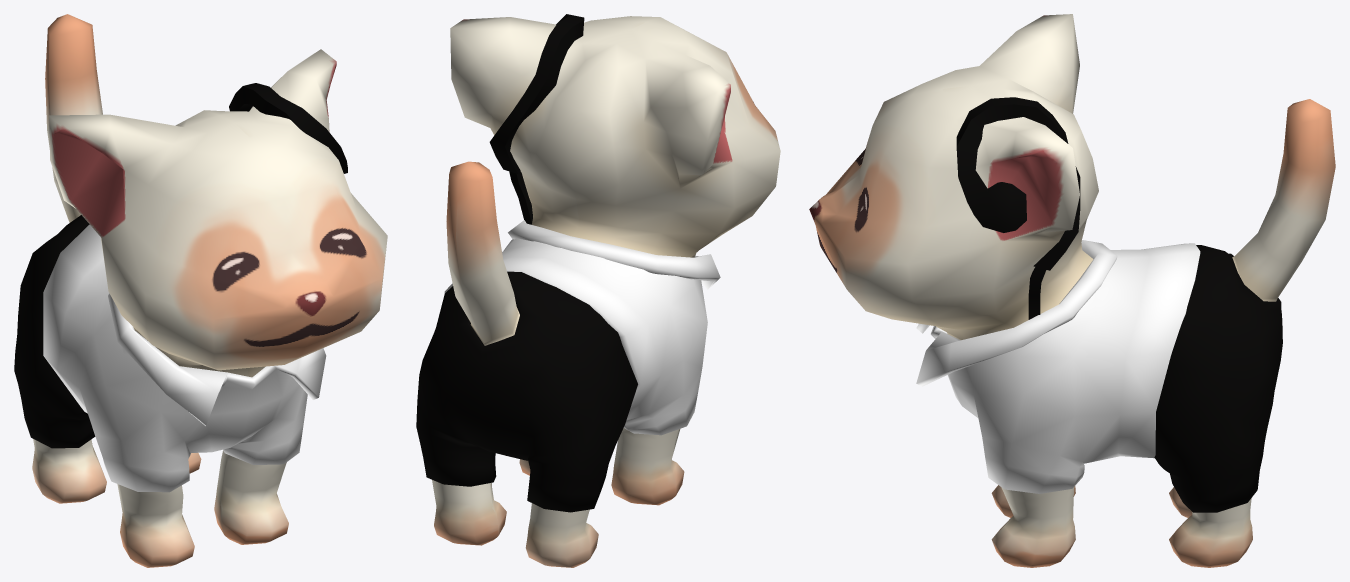
Rendered from Security Cat02.fbx.
3 views of the same model, side by side, from view 1: azimuth 30°, elevation 25°; view 2: azimuth 150°, elevation 25°; view 3: azimuth 270°, elevation 25° (orthographic). The views are drawn at different scales.
Parts seen in each view (by area): view 1: Cat_Base001, Security_Cat_Shirt, Security_Cat_Shorts, Security_Cat_Earpiece; view 2: Cat_Base001, Security_Cat_Shorts, Security_Cat_Shirt, Security_Cat_Earpiece; view 3: Cat_Base001, Security_Cat_Shirt, Security_Cat_Shorts, Security_Cat_Earpiece.
Boxes of the visible parts, left/top/right/bottom form: Cat_Base001: left=32, top=14, right=387, bottom=567; Security_Cat_Shirt: left=43, top=224, right=326, bottom=492; Security_Cat_Shorts: left=14, top=215, right=95, bottom=448; Security_Cat_Earpiece: left=229, top=83, right=347, bottom=173; Cat_Base001: left=432, top=16, right=780, bottom=567; Security_Cat_Shorts: left=416, top=271, right=637, bottom=512; Security_Cat_Shirt: left=444, top=220, right=720, bottom=435; Security_Cat_Earpiece: left=489, top=14, right=584, bottom=224; Cat_Base001: left=809, top=14, right=1335, bottom=567; Security_Cat_Shirt: left=916, top=240, right=1200, bottom=493; Security_Cat_Shorts: left=1154, top=245, right=1282, bottom=512; Security_Cat_Earpiece: left=956, top=97, right=1080, bottom=319.
Size of the model in its own units: 1.75 by 2.83 by 2.71.
Materials: 3 (1 with a texture image).
